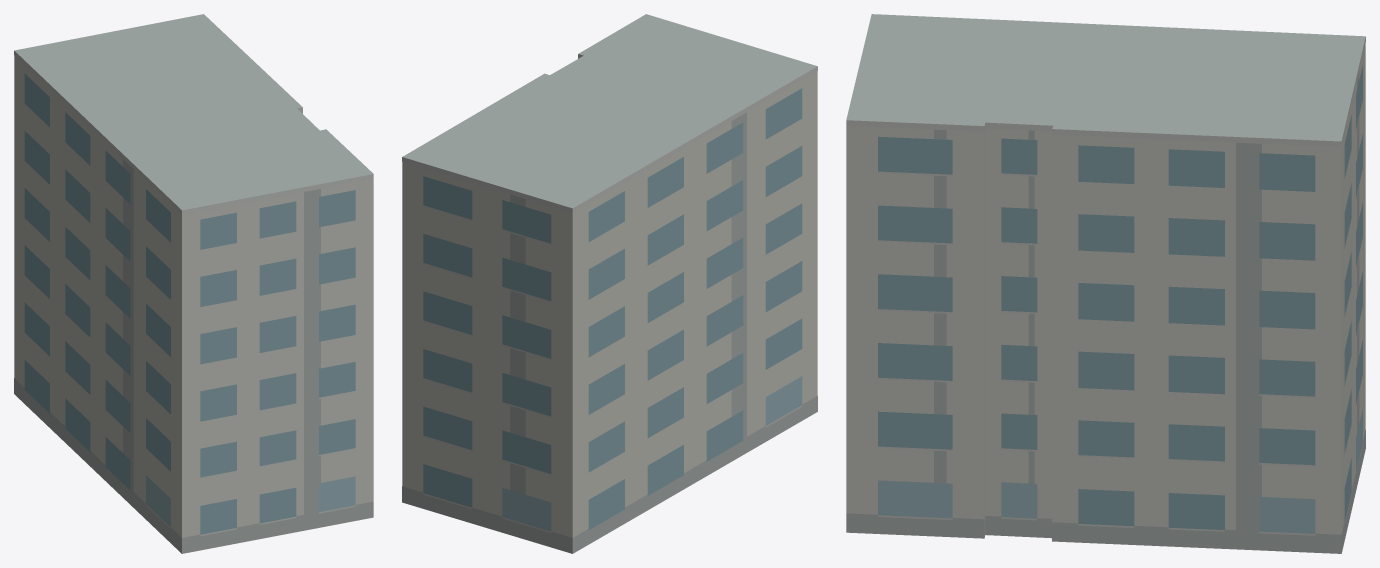
Rendered from survey-upis-32943656.glb.
3 views of the same model, side by side, from view 1: azimuth 30°, elevation 25°; view 2: azimuth 150°, elevation 25°; view 3: azimuth 270°, elevation 25° (orthographic). The views are drawn at different scales.
Parts seen in each view (by area): view 1: survey-upis-32943656.tmp; view 2: survey-upis-32943656.tmp; view 3: survey-upis-32943656.tmp.
Part boxes in pixels (x1=…): survey-upis-32943656.tmp: x1=14, y1=14, x2=373, y2=553; survey-upis-32943656.tmp: x1=402, y1=14, x2=817, y2=553; survey-upis-32943656.tmp: x1=846, y1=14, x2=1365, y2=553.
Size of the model in its own units: 11.61 by 17.5 by 19.99.
